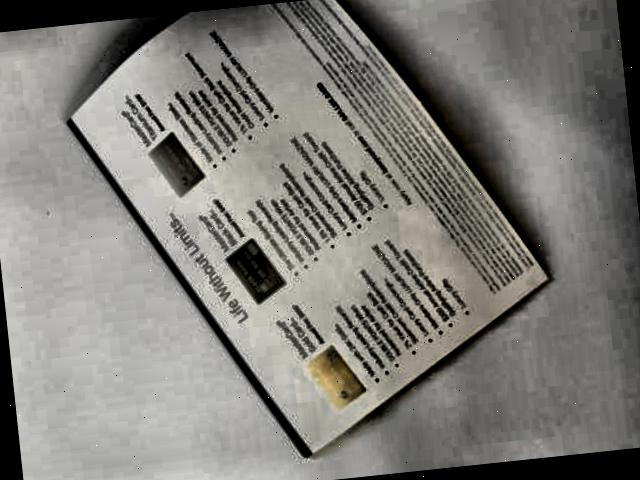Paper: (56, 0, 568, 480)
